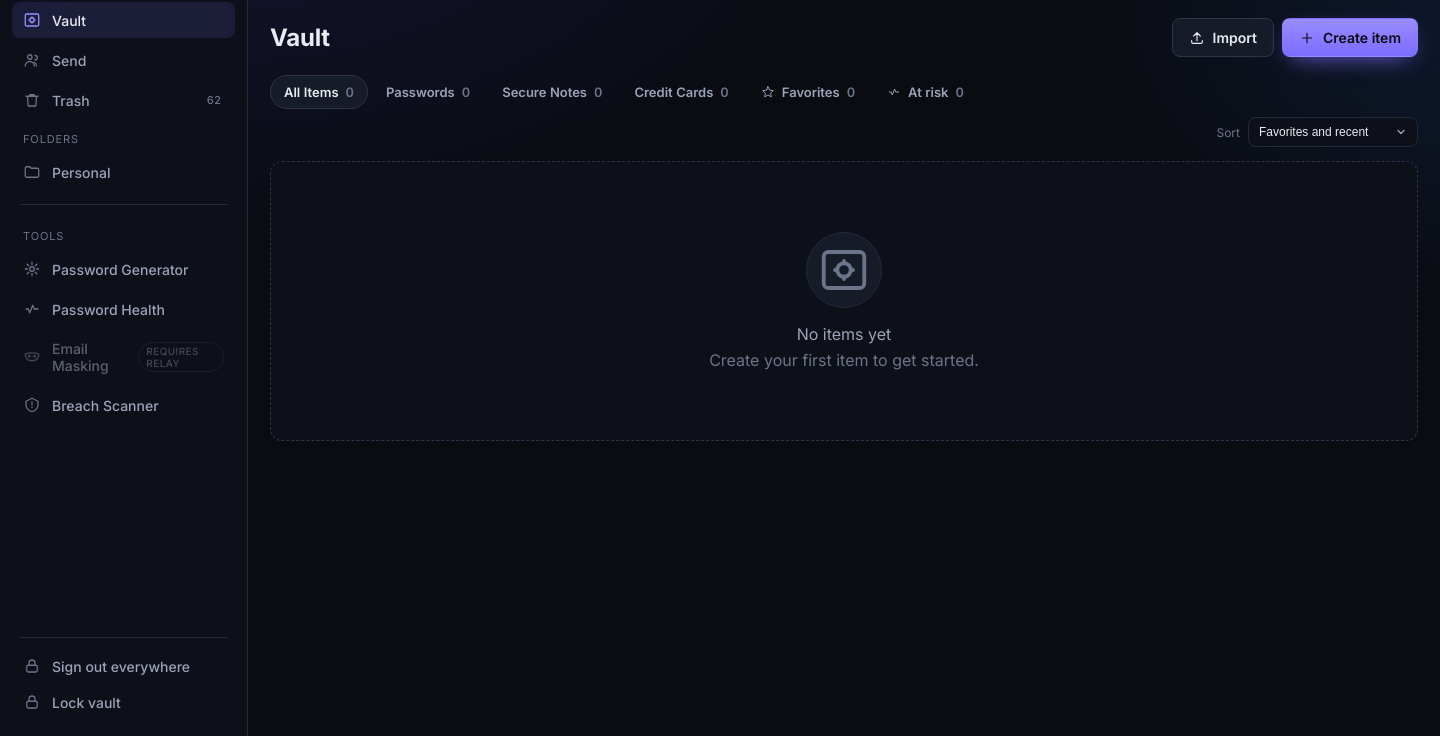
Scenario: Vault dashboard accessibility › paginates trash and dates each deletion absolutely
This screenshot has width=1440, height=736.
Click the button "Trash 62". click: coordinates (124, 100)
box: left=12, top=82, right=235, bottom=118
(page scrolled)
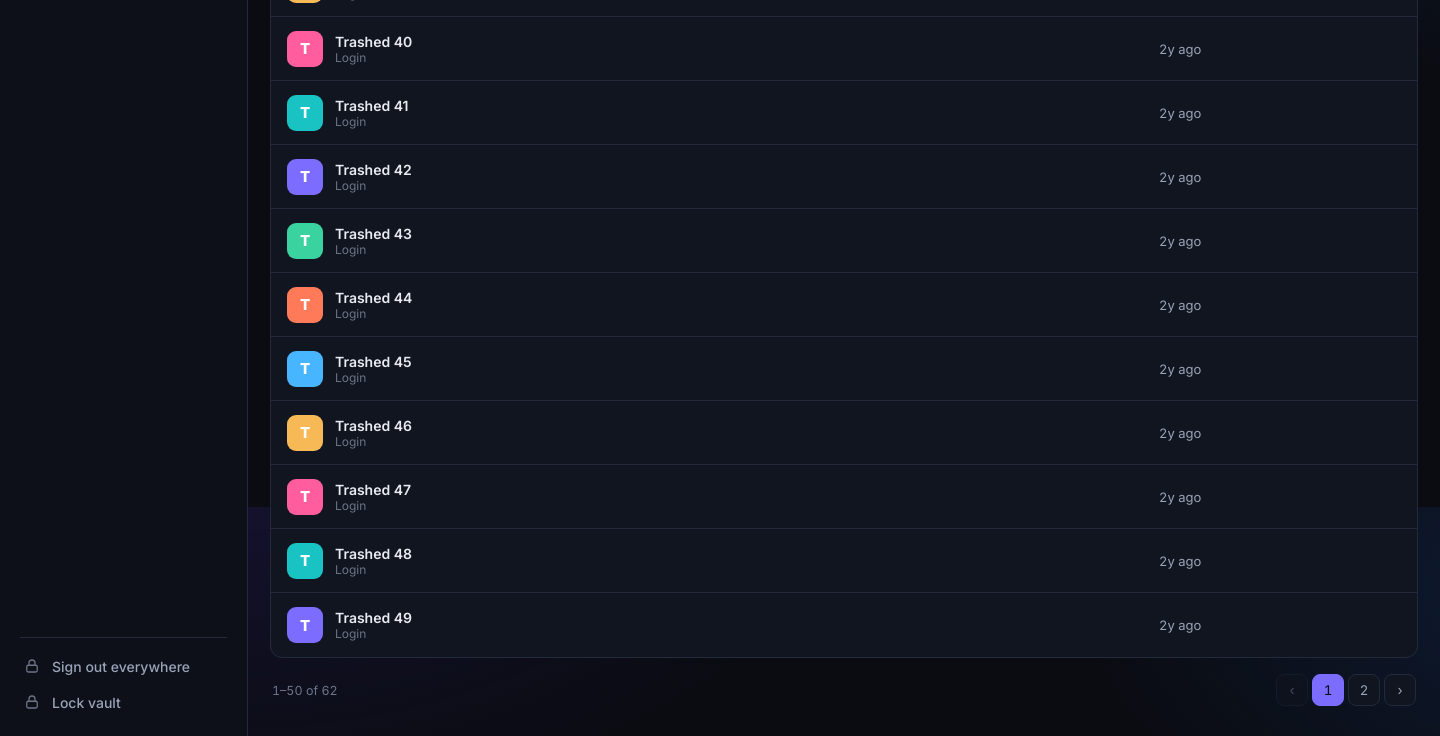
expect the text "Trashed 61" is not shown: met
expect the text "1–50 of 62" is shown: met, box left=272, top=682, right=338, bottom=698
Click the button named "Page 2". click: coordinates (1364, 690)
box: left=1348, top=674, right=1380, bottom=706
(page scrolled)
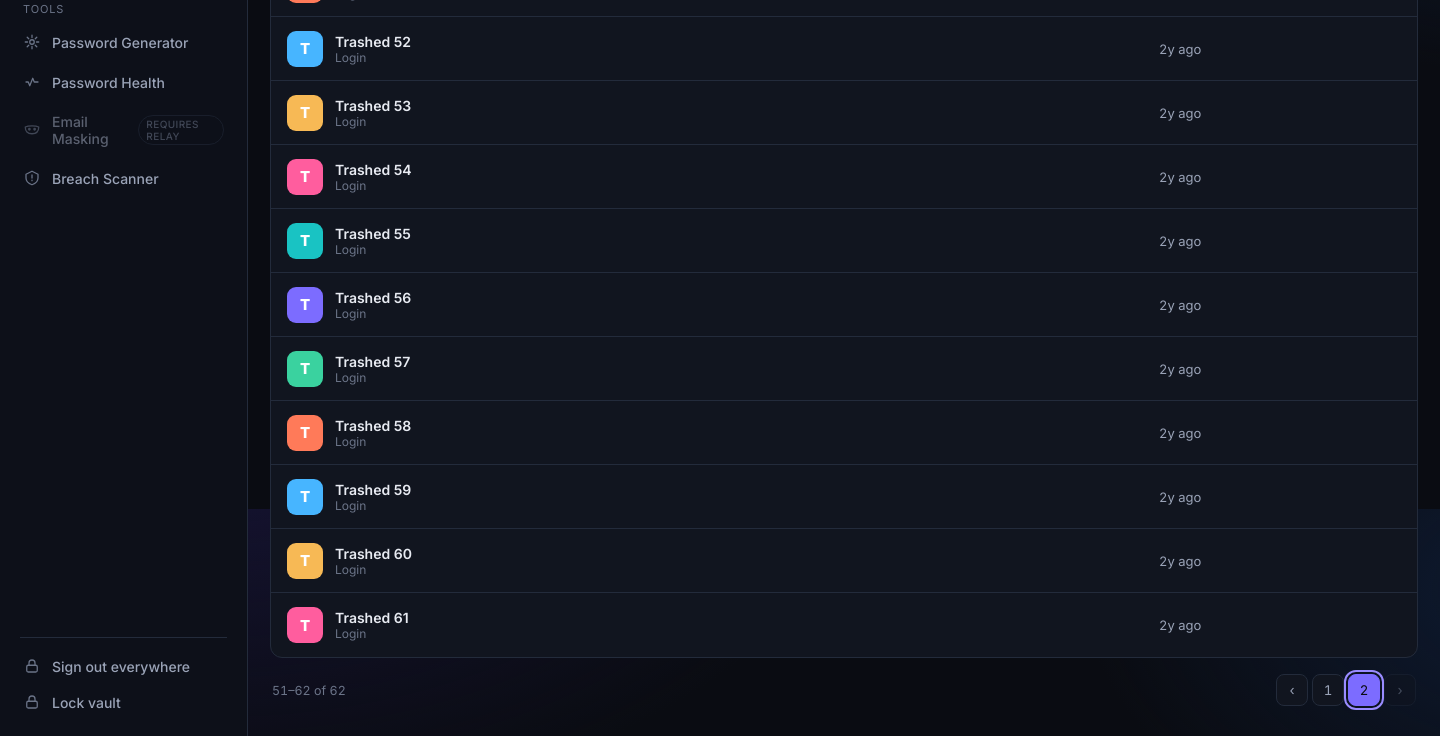
expect the text "Trashed 61" is shown: met, box left=335, top=609, right=409, bottom=626
expect the text "51–62 of 62" is shown: met, box left=272, top=682, right=346, bottom=698
